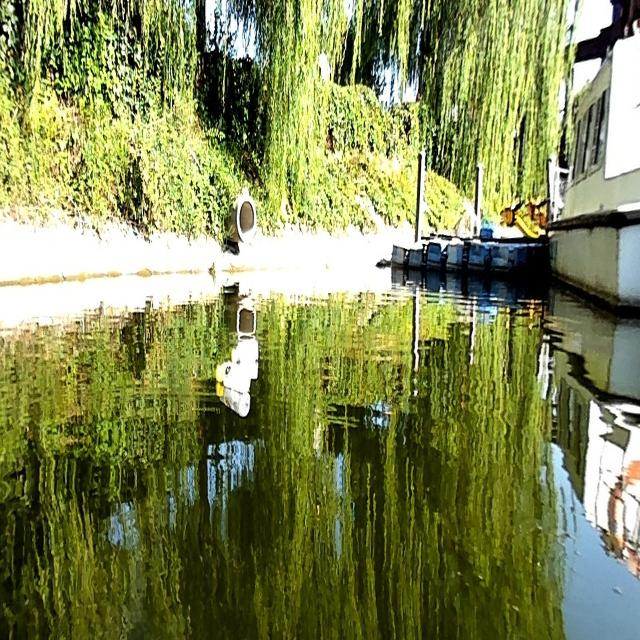bottle: (214, 360, 246, 394), (232, 337, 258, 359)
